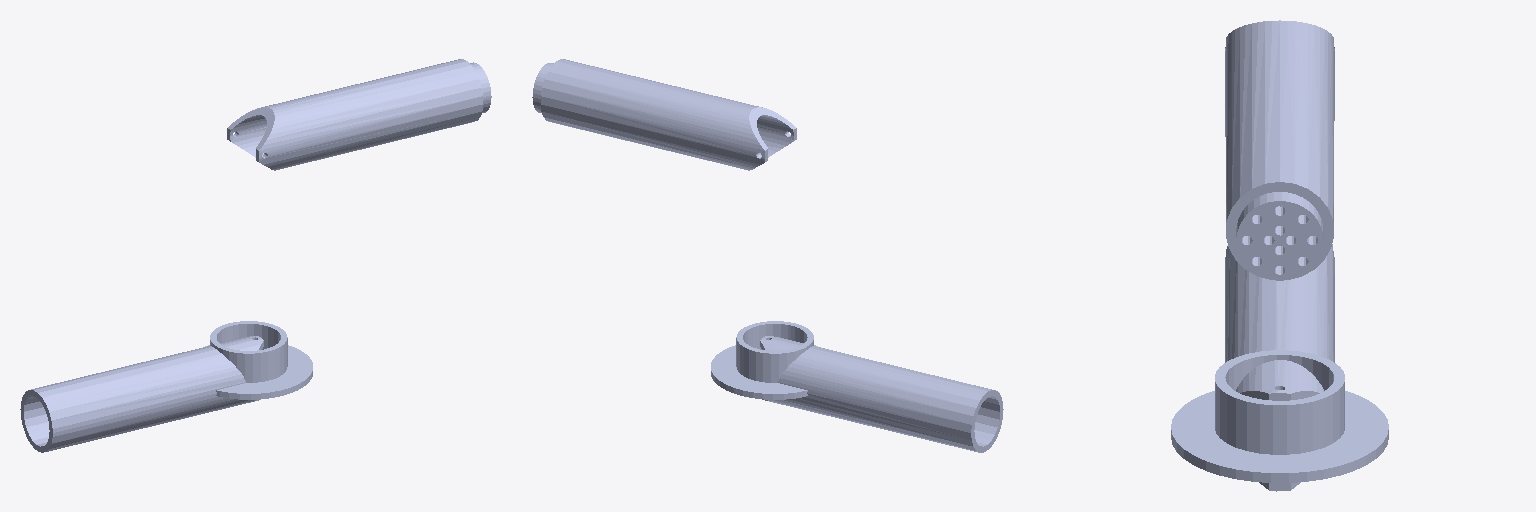
URDF robot description (3_DOF_ARM_description):
<robot
  name="3_DOF_ARM_description">
  <link
    name="base_link">
    <inertial>
      <origin
        xyz="0.00249115384615384 0.00305587412587413 -2.1584679354658E-18"
        rpy="0 0 0" />
      <mass
        value="0.0510508806208341" />
      <inertia
        ixx="0"
        ixy="0"
        ixz="0"
        iyy="0"
        iyz="0"
        izz="0" />
    </inertial>
    <visual>
      <origin
        xyz="0 0 0"
        rpy="0 0 0" />
      <geometry>
        <mesh
          filename="package://3_DOF_ARM_description/meshes/base_link.STL" />
      </geometry>
      <material
        name="">
        <color
          rgba="0.792156862745098 0.819607843137255 0.933333333333333 1" />
      </material>
    </visual>
    <collision>
      <origin
        xyz="0 0 0"
        rpy="0 0 0" />
      <geometry>
        <mesh
          filename="package://3_DOF_ARM_description/meshes/base_link.STL" />
      </geometry>
    </collision>
  </link>
  <link
    name="prox_link">
    <inertial>
      <origin
        xyz="6.94771683976621E-10 -0.0881460587278585 2.58403334320312E-10"
        rpy="0 0 0" />
      <mass
        value="0.132570921155528" />
      <inertia
        ixx="0"
        ixy="0"
        ixz="0"
        iyy="0"
        iyz="0"
        izz="0" />
    </inertial>
    <visual>
      <origin
        xyz="0 0 0"
        rpy="0 0 0" />
      <geometry>
        <mesh
          filename="package://3_DOF_ARM_description/meshes/prox_link.STL" />
      </geometry>
      <material
        name="">
        <color
          rgba="0.792156862745098 0.819607843137255 0.933333333333333 1" />
      </material>
    </visual>
    <collision>
      <origin
        xyz="0 0 0"
        rpy="0 0 0" />
      <geometry>
        <mesh
          filename="package://3_DOF_ARM_description/meshes/prox_link.STL" />
      </geometry>
    </collision>
  </link>
  <joint
    name="prox_joint"
    type="continuous">
    <origin
      xyz="0.00249115384615384 0 0"
      rpy="-1.5707963267949 -6.12303176911189E-17 -1.5707963267949" />
    <parent
      link="base_link" />
    <child
      link="prox_link" />
    <axis
      xyz="0 -1 0" />
  </joint>
  <link
    name="dist_Link">
    <inertial>
      <origin
        xyz="6.94771725475764E-10 -0.101063661551862 -2.58403354269632E-10"
        rpy="0 0 0" />
      <mass
        value="0.132570921155528" />
      <inertia
        ixx="0"
        ixy="0"
        ixz="0"
        iyy="0"
        iyz="0"
        izz="0" />
    </inertial>
    <visual>
      <origin
        xyz="0 0 0"
        rpy="0 0 0" />
      <geometry>
        <mesh
          filename="package://3_DOF_ARM_description/meshes/dist_Link.STL" />
      </geometry>
      <material
        name="">
        <color
          rgba="0.792156862745098 0.819607843137255 0.933333333333333 1" />
      </material>
    </visual>
    <collision>
      <origin
        xyz="0 0 0"
        rpy="0 0 0" />
      <geometry>
        <mesh
          filename="package://3_DOF_ARM_description/meshes/dist_Link.STL" />
      </geometry>
    </collision>
  </link>
  <joint
    name="dist_joint"
    type="continuous">
    <origin
      xyz="0 -0.18920972027972 0"
      rpy="-1.5707963267949 -1.78622307916987E-17 -4.68021606411955E-34" />
    <parent
      link="prox_link" />
    <child
      link="dist_Link" />
    <axis
      xyz="1 0 0" />
  </joint>
  <link
    name="effector_link">
    <inertial>
      <origin
        xyz="7.89731593155378E-17 -1.94289029309402E-16 0.0118918918918916"
        rpy="0 0 0" />
      <mass
        value="0.0290597320457048" />
      <inertia
        ixx="0"
        ixy="0"
        ixz="0"
        iyy="0"
        iyz="0"
        izz="0" />
    </inertial>
    <visual>
      <origin
        xyz="0 0 0"
        rpy="0 0 0" />
      <geometry>
        <mesh
          filename="package://3_DOF_ARM_description/meshes/effector_link.STL" />
      </geometry>
      <material
        name="">
        <color
          rgba="0.792156862745098 0.819607843137255 0.933333333333333 1" />
      </material>
    </visual>
    <collision>
      <origin
        xyz="0 0 0"
        rpy="0 0 0" />
      <geometry>
        <mesh
          filename="package://3_DOF_ARM_description/meshes/effector_link.STL" />
      </geometry>
    </collision>
  </link>
  <joint
    name="effector_joint"
    type="continuous">
    <origin
      xyz="0 -0.18 0"
      rpy="1.5707963267949 7.49830360911068E-33 6.12303176911189E-17" />
    <parent
      link="dist_Link" />
    <child
      link="effector_link" />
    <axis
      xyz="0 0 1" />
  </joint>
</robot>

--- Render facts (derived) ---
3 views of the same robot in one strip: view 1: azimuth 30°, elevation 25°; view 2: azimuth 150°, elevation 25°; view 3: azimuth 270°, elevation 25° (orthographic).
Robot: 3_DOF_ARM_description — 4 links, 3 joints (3 continuous); root link base_link; default pose: every joint at zero.
Links seen in each view (by area): view 1: dist_Link, prox_link, base_link; view 2: dist_Link, prox_link, base_link; view 3: dist_Link, base_link, prox_link, effector_link.
Link boxes in pixels (x1,y1,x2,y2): dist_Link: [227, 59, 482, 170]; prox_link: [20, 336, 263, 452]; base_link: [205, 321, 312, 399]; dist_Link: [541, 59, 796, 170]; prox_link: [760, 336, 1003, 452]; base_link: [711, 321, 817, 399]; dist_Link: [1225, 20, 1334, 280]; base_link: [1171, 350, 1388, 482]; prox_link: [1225, 244, 1334, 491]; effector_link: [1236, 192, 1323, 279].
Size in the robot's own frame: 0.3942 by 0.1 by 0.2425 metres.
Meshes: 4 distinct files referenced, 4 mesh visuals loaded (4 binary STL).